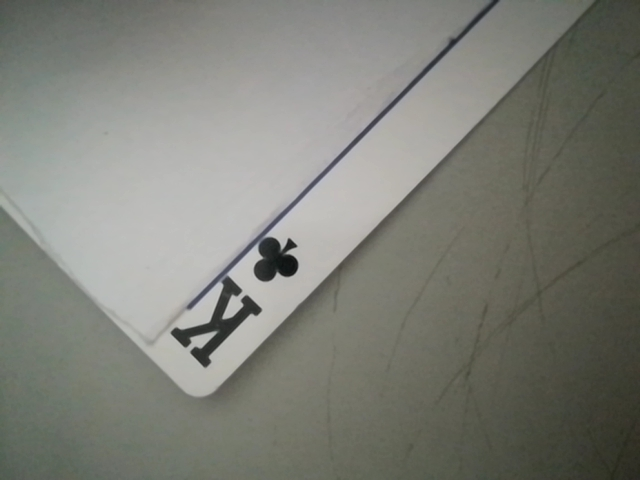mh k: (165, 230, 309, 384)
